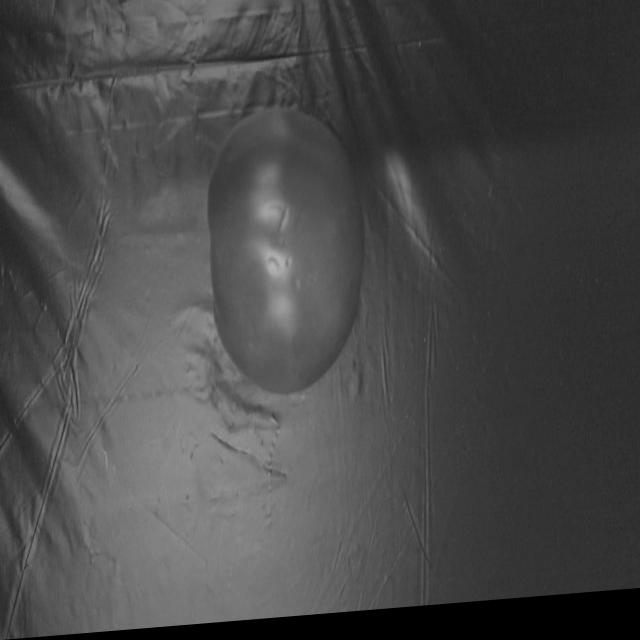kirmizi: (209, 102, 370, 413)
